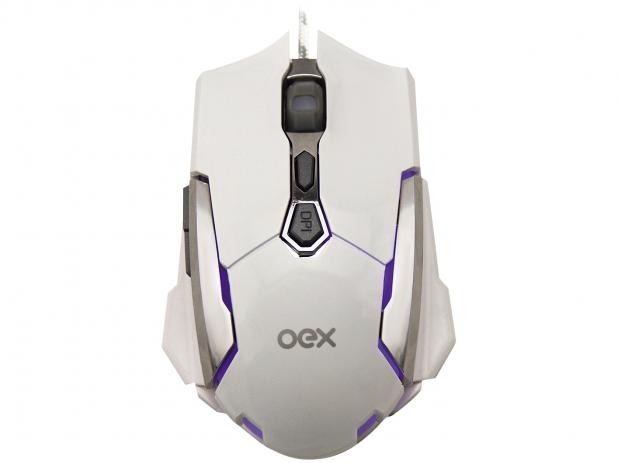mouse: (147, 13, 470, 463)
